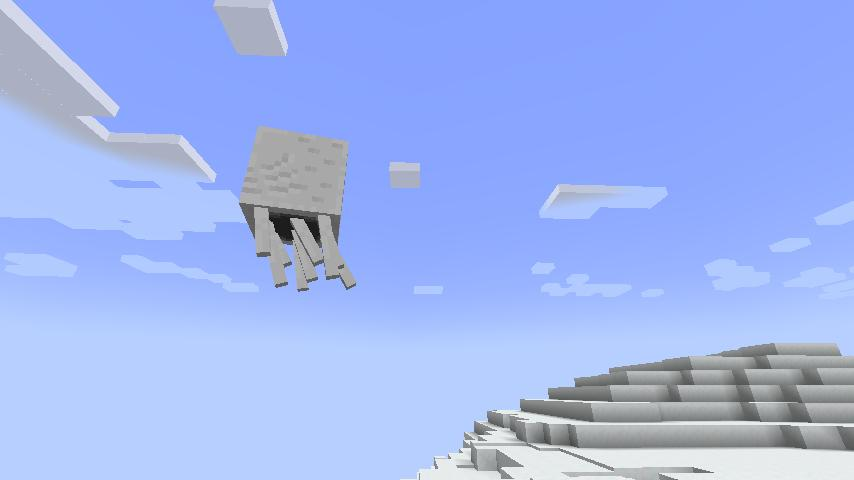ghast: (240, 126, 356, 292)
